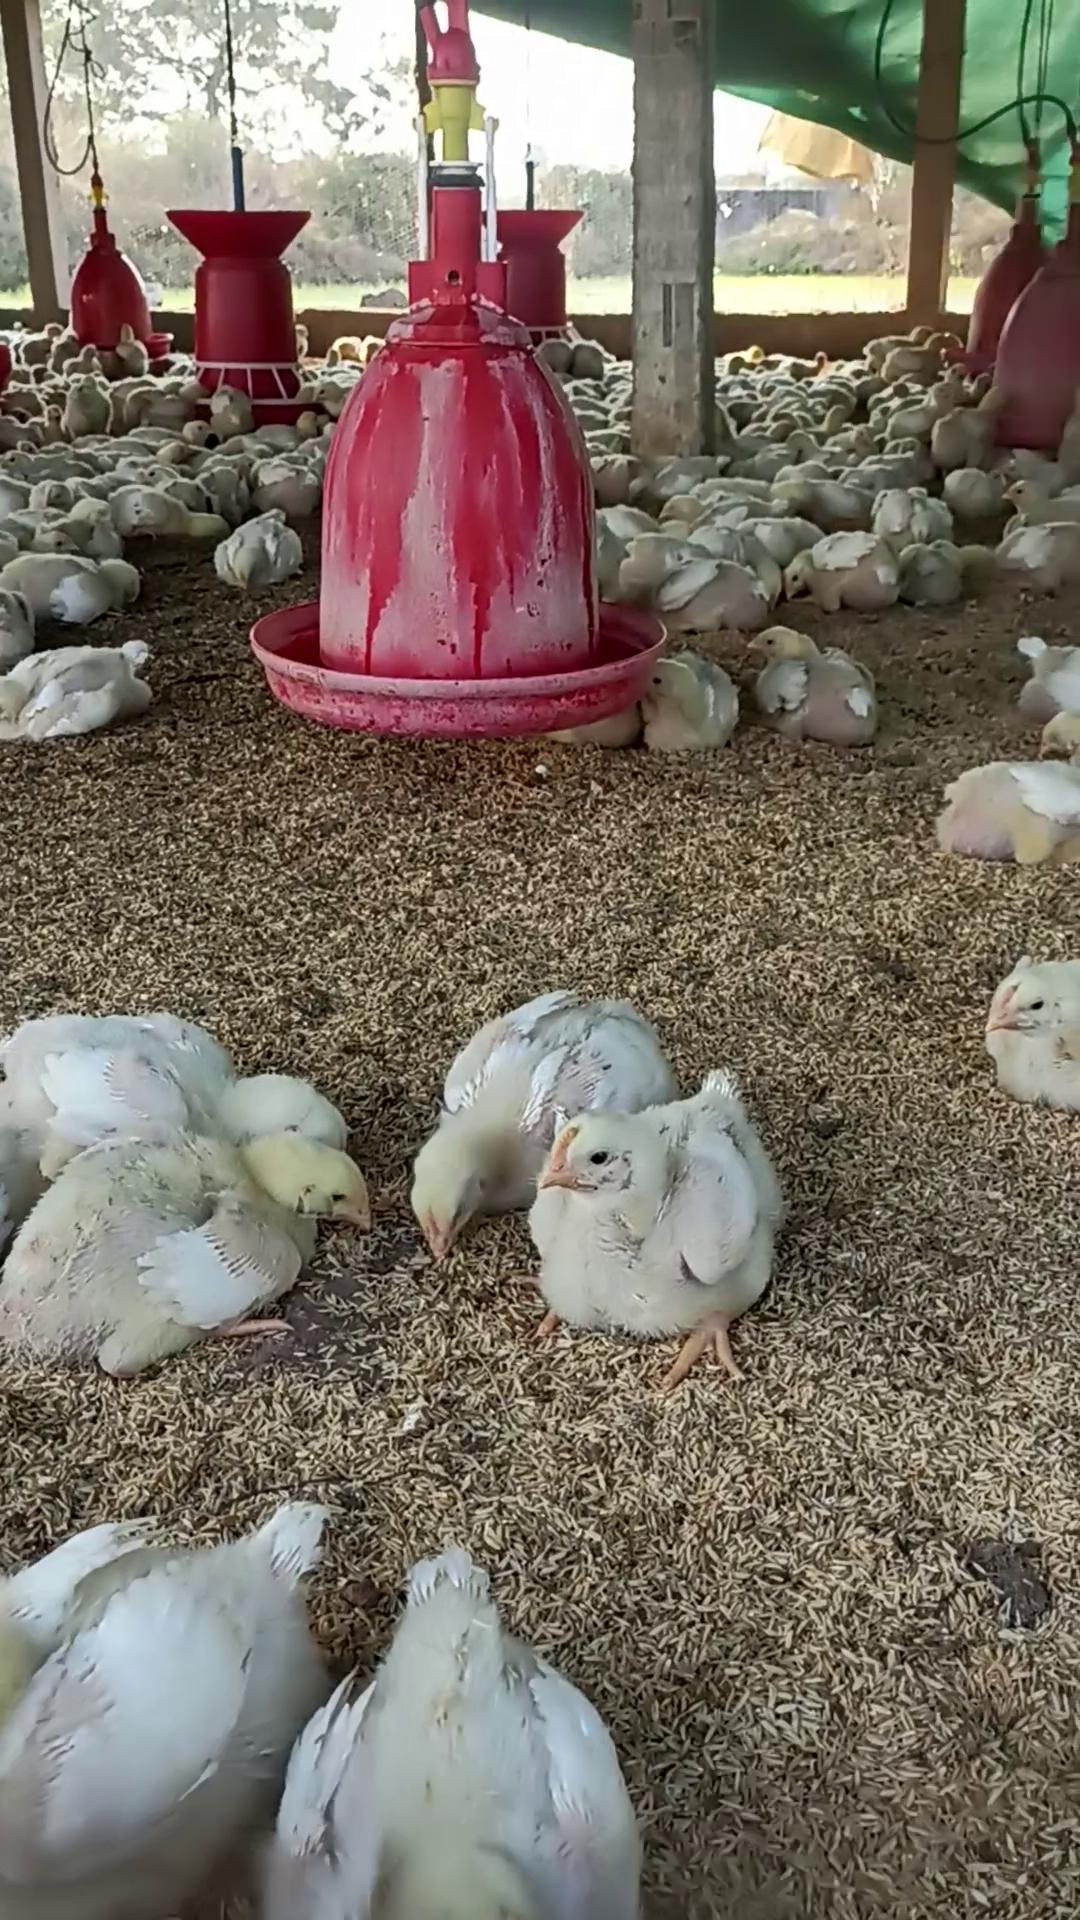Pollos: (7, 1114, 371, 1362), (535, 1098, 777, 1333), (404, 1023, 539, 1258), (0, 634, 169, 760), (749, 622, 878, 748), (978, 953, 1080, 1104), (779, 529, 903, 608), (1004, 480, 1080, 584), (218, 510, 299, 597)
